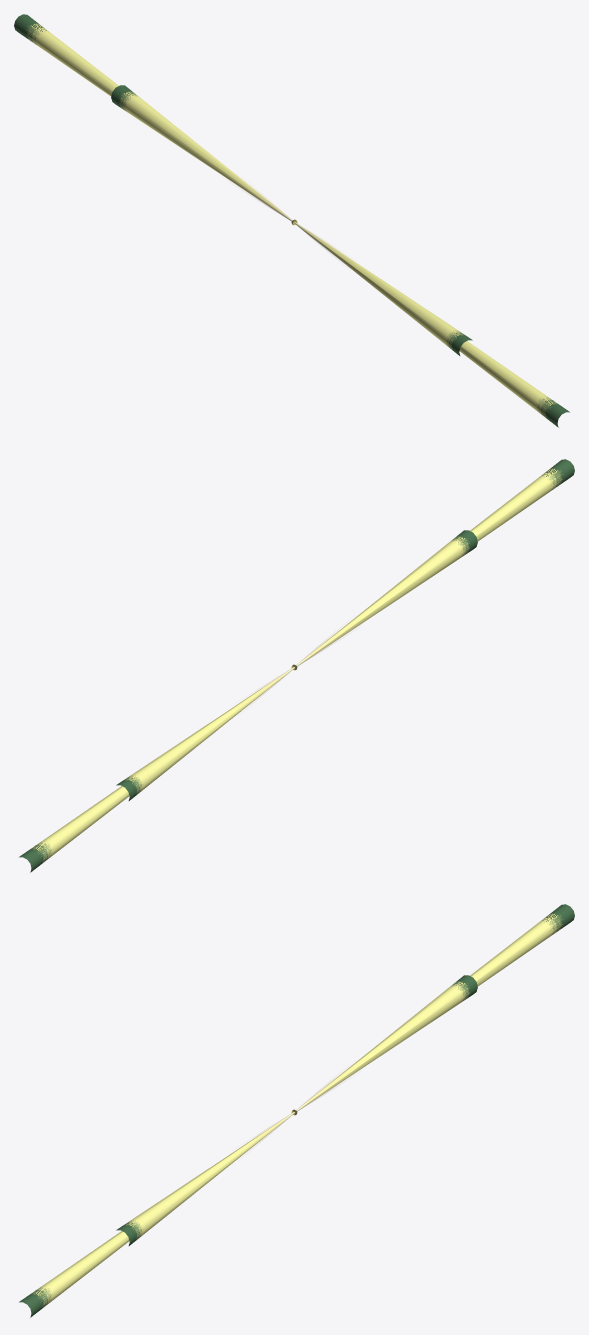
The model's file is lightBeam.glb.
3 views of the same model, one above another, from view 1: azimuth 30°, elevation 25°; view 2: azimuth 150°, elevation 25°; view 3: azimuth 330°, elevation 25° (orthographic).
Visible parts, largest first — view 1: light.png__, light-1.png__; view 2: light.png__, light-1.png__; view 3: light.png__, light-1.png__.
Boxes of the visible parts, x1=… form: light.png__: x1=14, y1=14, x2=569, y2=427; light-1.png__: x1=245, y1=187, x2=336, y2=254; light.png__: x1=19, y1=459, x2=574, y2=872; light-1.png__: x1=252, y1=632, x2=343, y2=699; light.png__: x1=19, y1=904, x2=574, y2=1317; light-1.png__: x1=252, y1=1077, x2=343, y2=1144.
Bounding box in the file's own units: 14.9 × 14.9 × 753.
4 materials, 4 textured.
